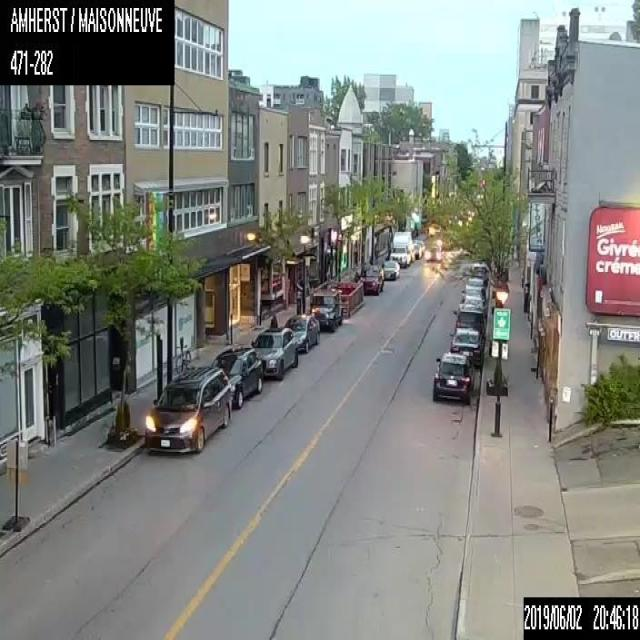pedestrian: (294, 273, 302, 312), (270, 312, 277, 326)
vehicle: (144, 365, 231, 452), (210, 345, 262, 408), (250, 327, 298, 379), (432, 352, 474, 403), (283, 313, 319, 352), (449, 326, 484, 366), (309, 289, 341, 331), (452, 302, 487, 336), (389, 229, 414, 266), (358, 264, 383, 294), (462, 293, 487, 314), (465, 276, 485, 298), (469, 262, 489, 284), (380, 259, 400, 278), (461, 286, 484, 301), (425, 244, 440, 262)
